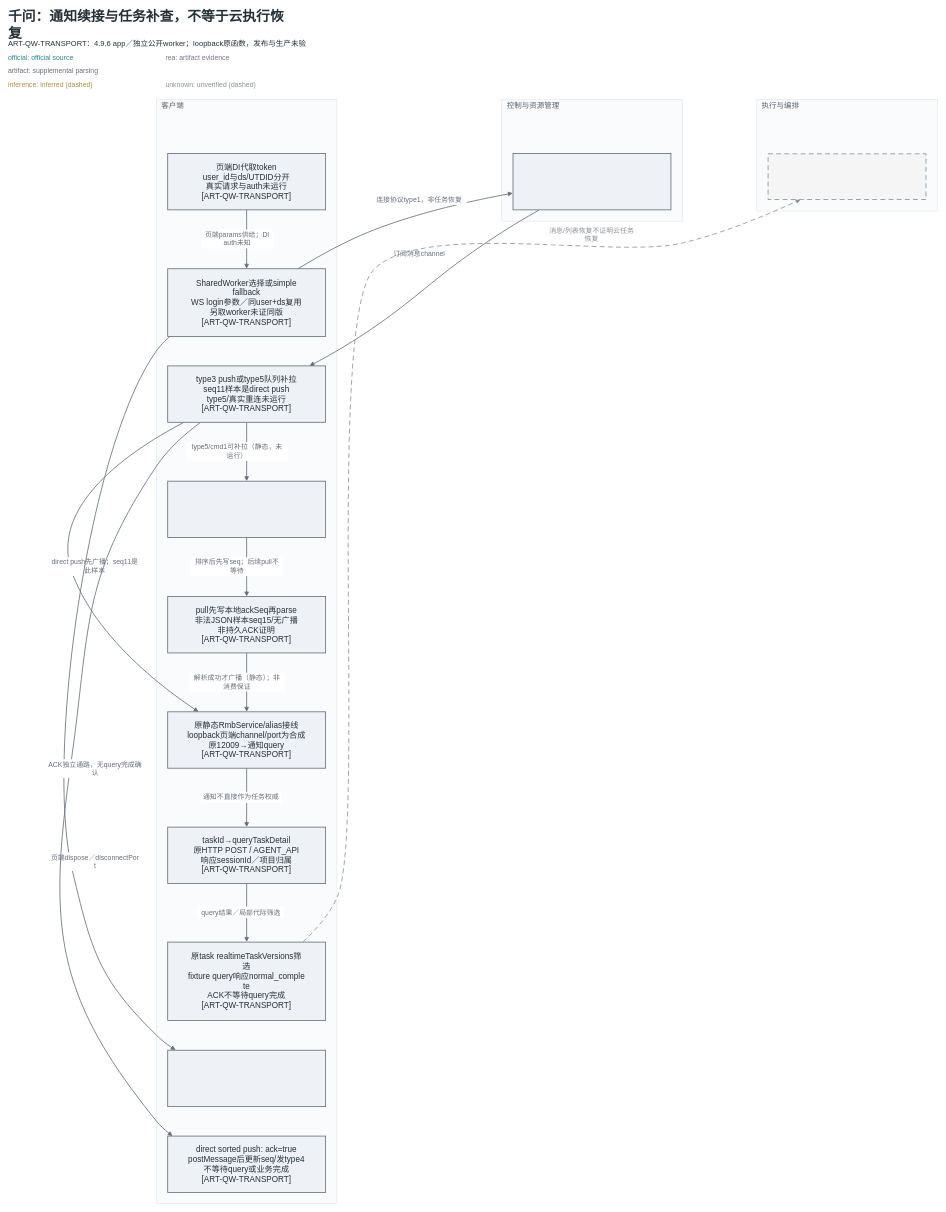
The diagram is 946 pixels wide and 1212 high, and some of its shapes have lost their labels. Here are the shapes that lost their labels. From the top down, the centre of each, then its label:
At (x=591, y=181): "type1 token更新→type2注册 普通channel=user_id device channel=ds [ART-QW-TRANSPORT]".
At (x=846, y=176): "未知：权威状态/工具终态 Sandbox分配/租约/恢复 不能从通知seq或query补造".
At (x=246, y=509): "HTTP /ws/pull + token task全部／device只最新 simple initCatchup不广播 [ART-QW-TRANSPORT]".
At (x=246, y=1078): "disconnectPort移除当前端口 不直接close socket 浏览器生命周期未验 [ART-QW-TRANSPORT]".
